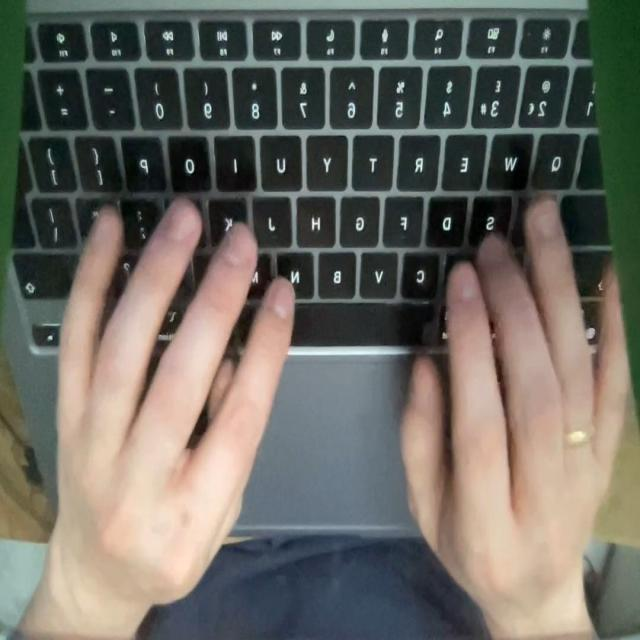keyboard-with-hands: (1, 0, 626, 535)
